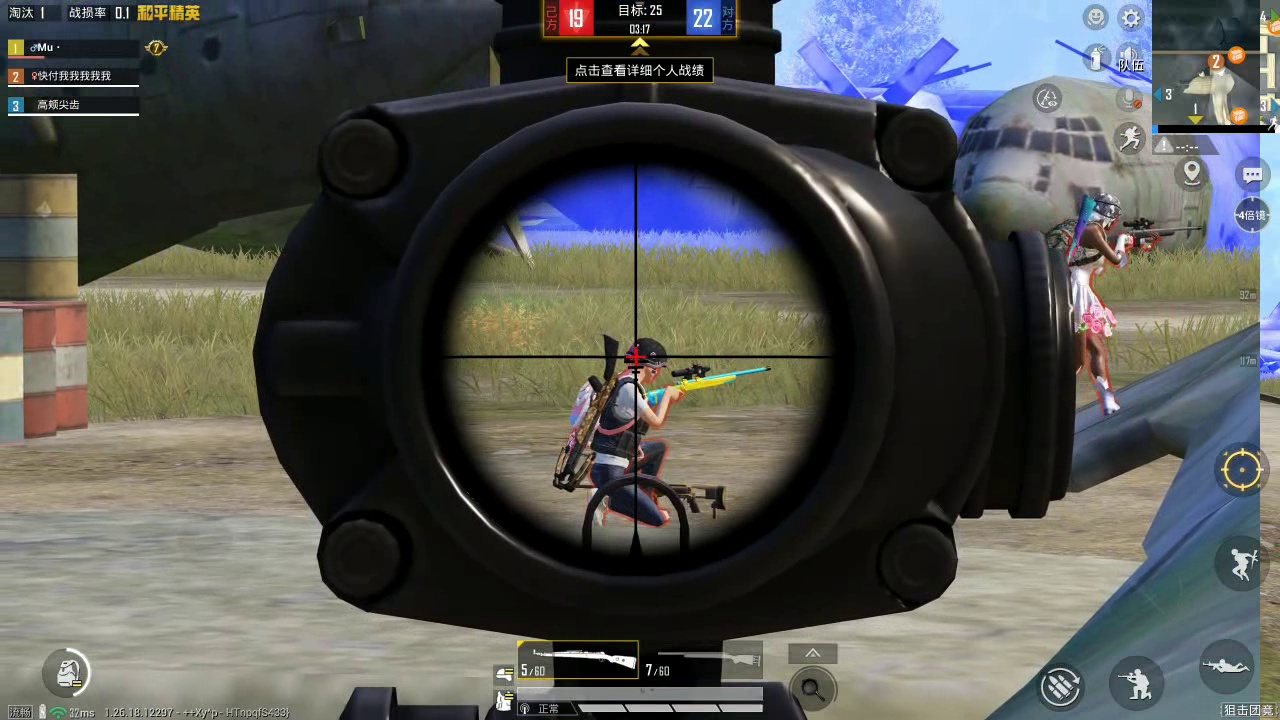enemy: (586, 336, 675, 525), (1052, 192, 1116, 412)
